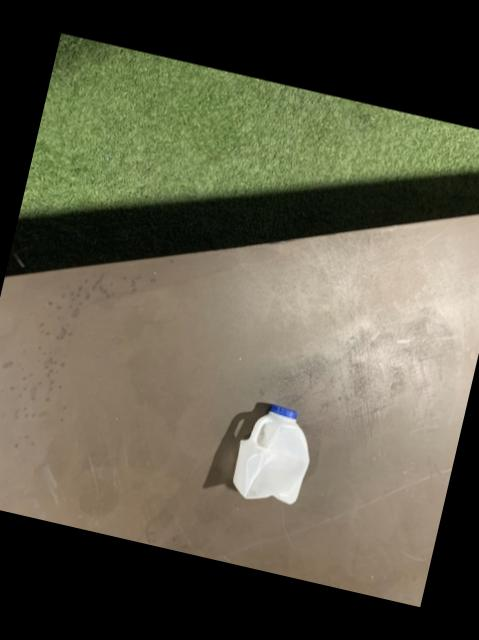plastic: (230, 406, 306, 505)
